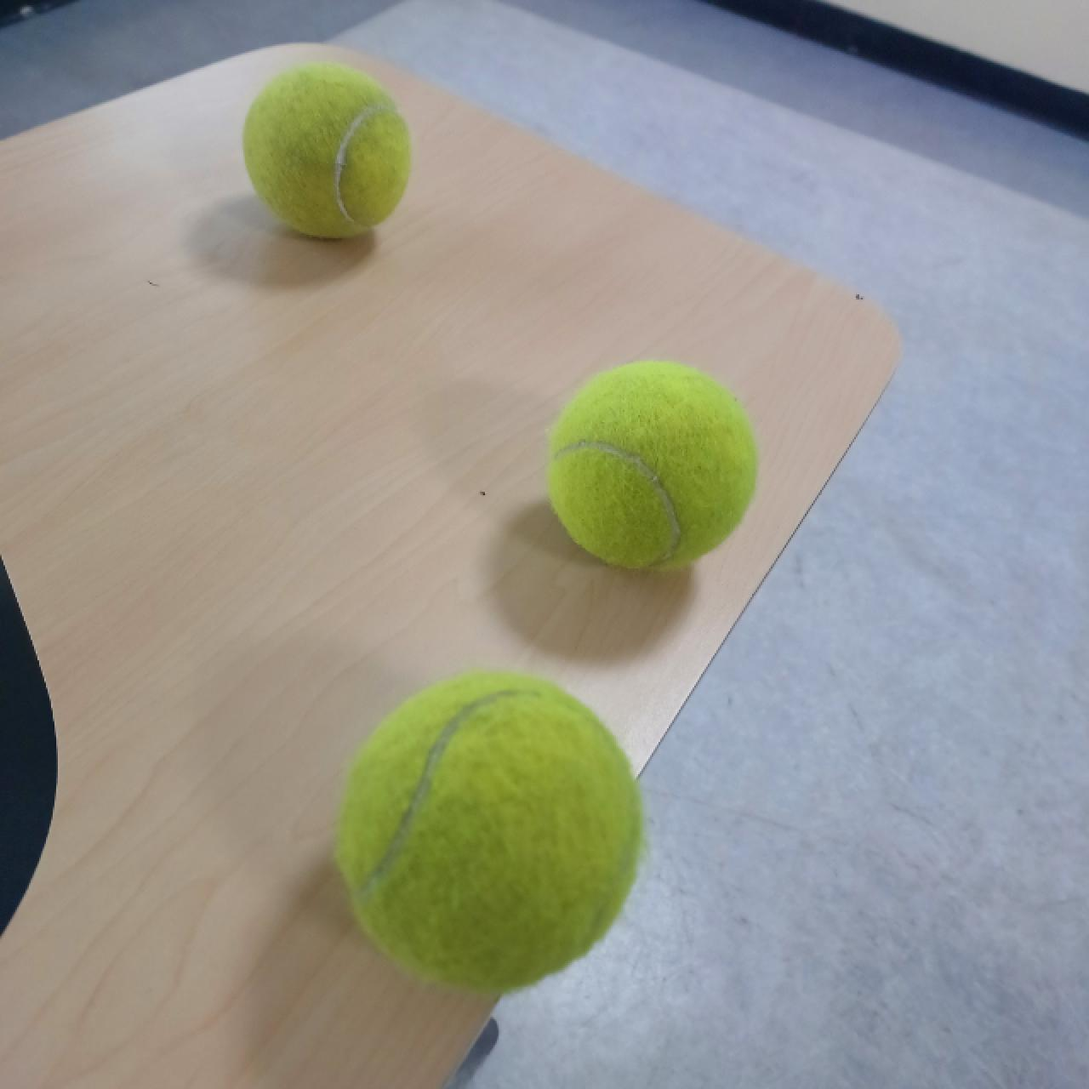tennis-ball: (335, 673, 643, 993), (547, 357, 758, 569), (242, 61, 412, 242)
